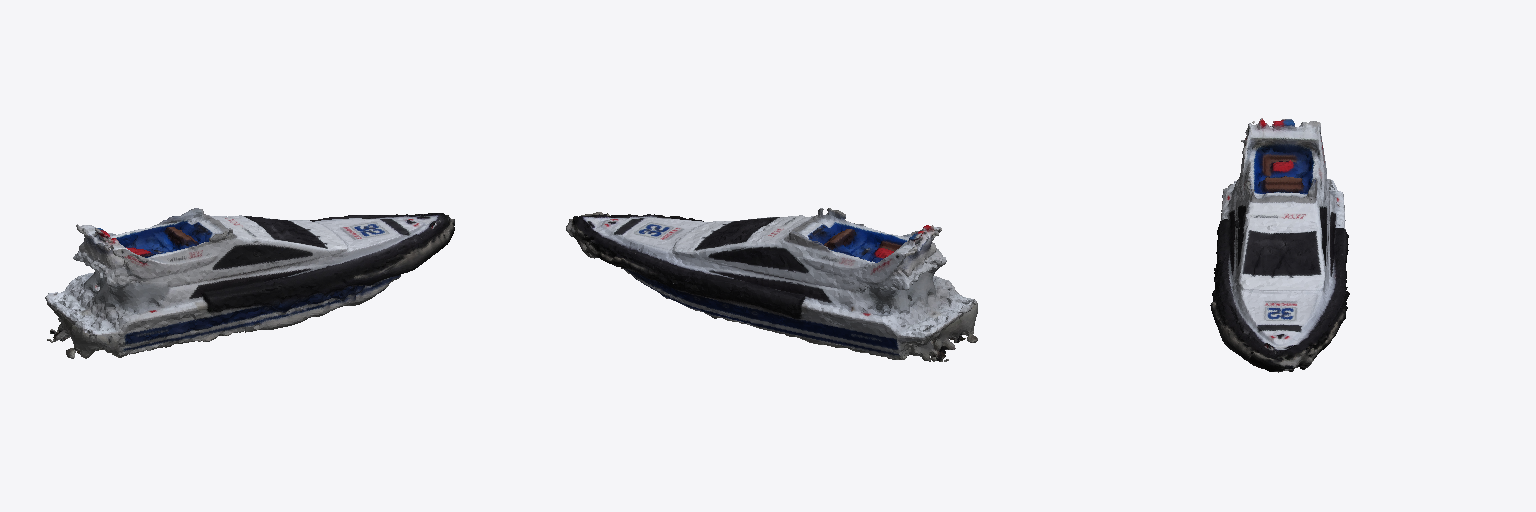
3 renders of one model, left to right at view 1: azimuth 30°, elevation 25°; view 2: azimuth 150°, elevation 25°; view 3: azimuth 270°, elevation 25°, orthographic.
Parts seen in each view (by area): view 1: batooo; view 2: batooo; view 3: batooo.
Boxes of the visible parts, box(x1,y1,x2,y2) form: batooo: box(45, 208, 454, 358); batooo: box(566, 208, 977, 361); batooo: box(1210, 118, 1349, 372).
Bounding box in the file's own units: 7.08 × 2.11 × 2.15.
Materials: 1 (1 with a texture image).